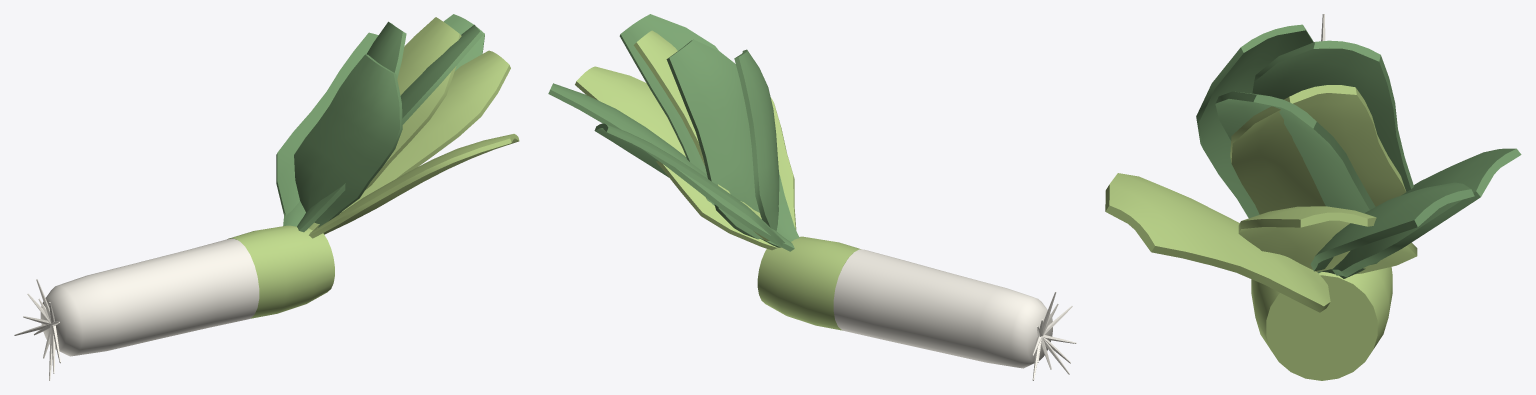
File: fresh-produce-and-groceries-leek-f72683aa__24360.glb
3 views of the same model, side by side, from view 1: azimuth 30°, elevation 25°; view 2: azimuth 150°, elevation 25°; view 3: azimuth 270°, elevation 25° (orthographic). The views are drawn at different scales.
Visible parts, largest first — view 1: leek; view 2: leek; view 3: leek.
Boxes of the visible parts, x1,y1,x2,y2 form: leek: (14,14,519,380); leek: (548,14,1076,380); leek: (1105,14,1521,380).
Bounding box in the file's own units: 0.2878 × 0.1462 × 0.1284.
